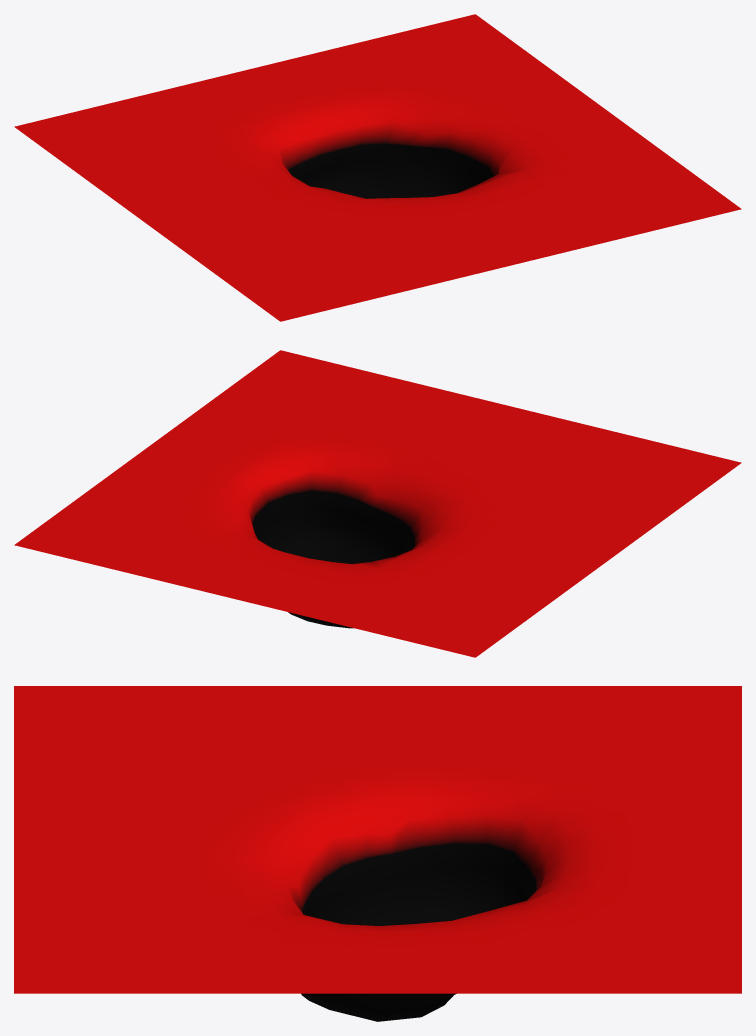
File: GroundBottom01G 2M Foreground.fbx
3 renders of one model, top to bottom at view 1: azimuth 30°, elevation 25°; view 2: azimuth 150°, elevation 25°; view 3: azimuth 270°, elevation 25°, orthographic. The views are drawn at different scales.
Parts seen in each view (by area): view 1: GroundBottom01G 2M Foreground; view 2: GroundBottom01G 2M Foreground; view 3: GroundBottom01G 2M Foreground.
Part boxes in pixels (bbox=[...]): GroundBottom01G 2M Foreground: bbox=[14, 14, 741, 321]; GroundBottom01G 2M Foreground: bbox=[14, 350, 741, 657]; GroundBottom01G 2M Foreground: bbox=[14, 686, 741, 1021].
Size of the model in its own units: 4 by 0.7944 by 4.
